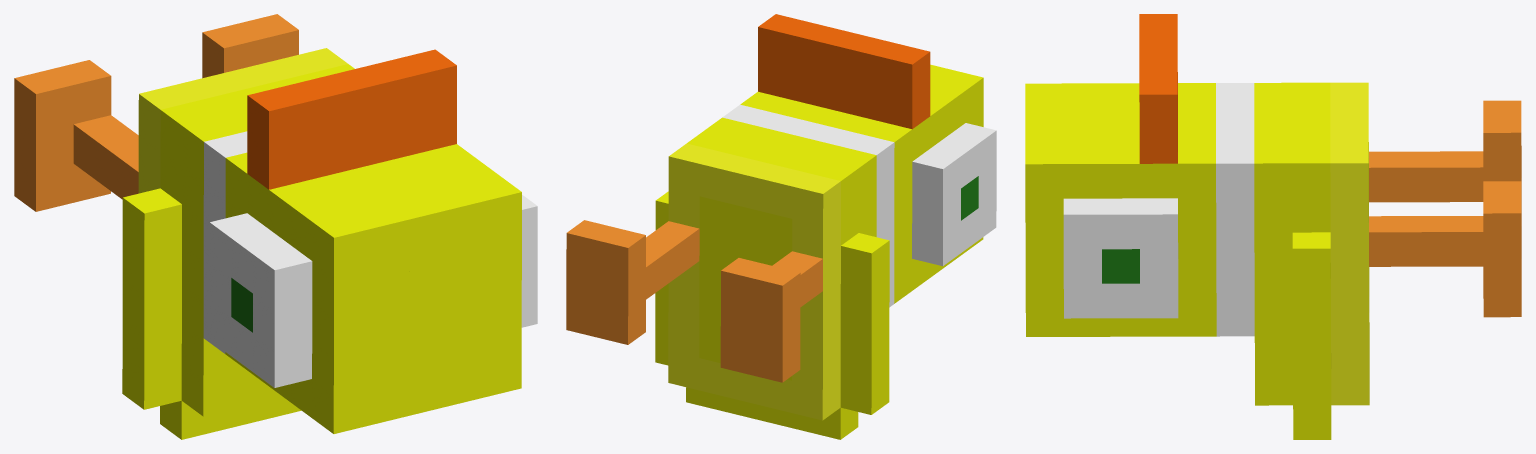
File: duck.gltf
3 views of the same model, side by side, from view 1: azimuth 30°, elevation 25°; view 2: azimuth 150°, elevation 25°; view 3: azimuth 270°, elevation 25° (orthographic). The views are drawn at different scales.
Size of the model in its own units: 32.16 by 45.89 by 59.78.
